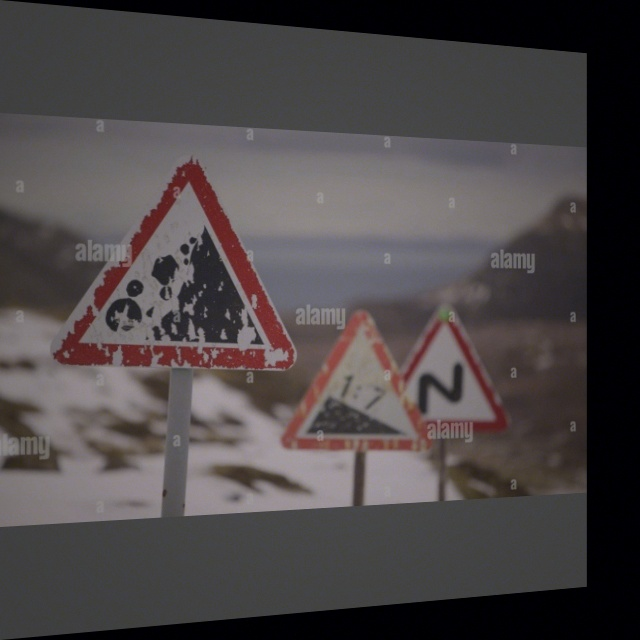Falling_Rocks: (67, 154, 285, 370)
